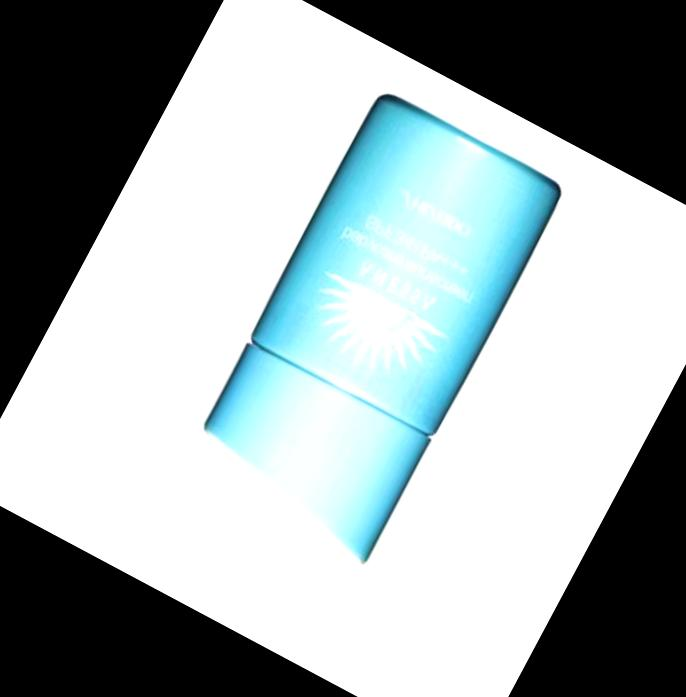cosmetic: (177, 87, 571, 571)
